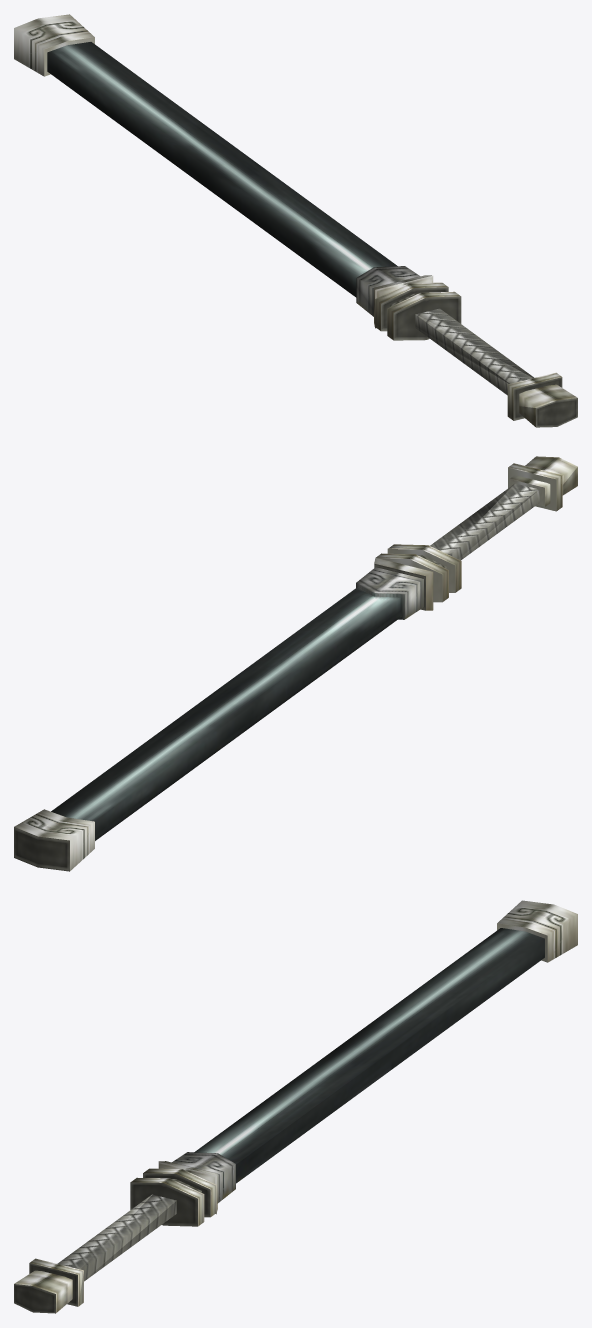
3 renders of one model, top to bottom at view 1: azimuth 30°, elevation 25°; view 2: azimuth 150°, elevation 25°; view 3: azimuth 330°, elevation 25°, orthographic.
Visible parts, largest first — view 1: W902b; view 2: W902b; view 3: W902b.
Part boxes in pixels (<box>): W902b: <box>14,14,577,427</box>; W902b: <box>14,456,577,871</box>; W902b: <box>14,900,577,1313</box>.
Bounding box in the file's own units: 2.27 × 1.37 × 30.26.
1 material, 1 textured.
